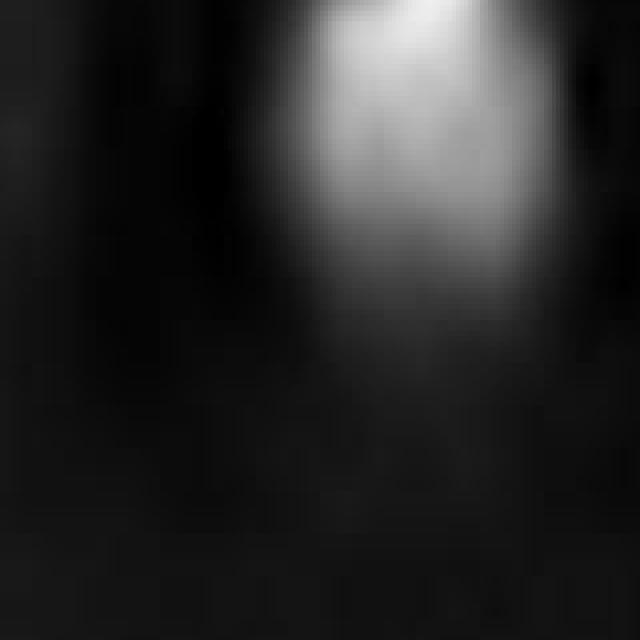person: (301, 1, 565, 406)
